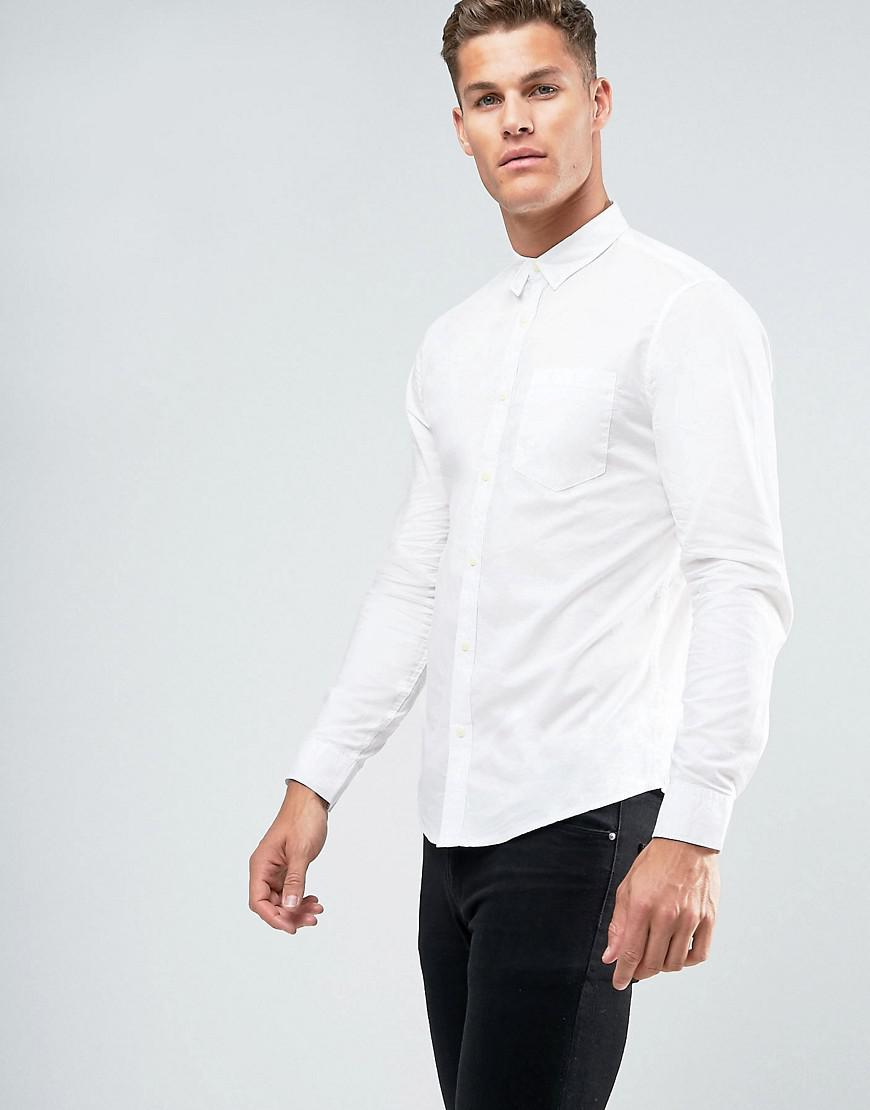teeshirt: (281, 205, 812, 881)
